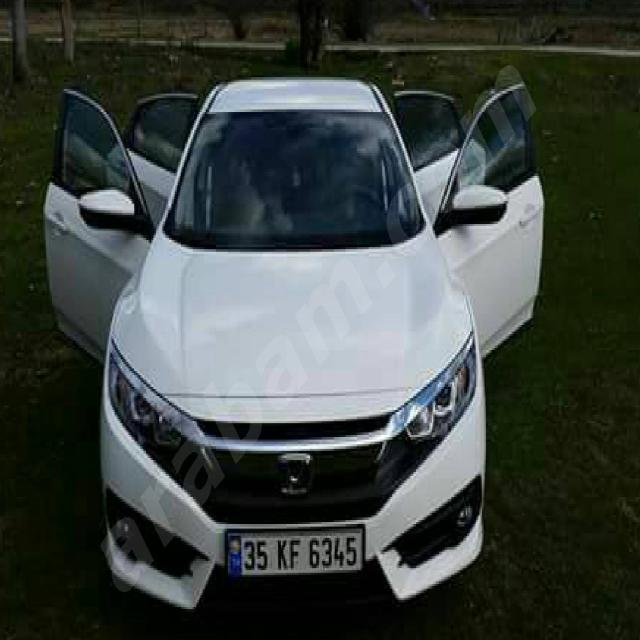license_plate: (225, 527, 363, 576)
